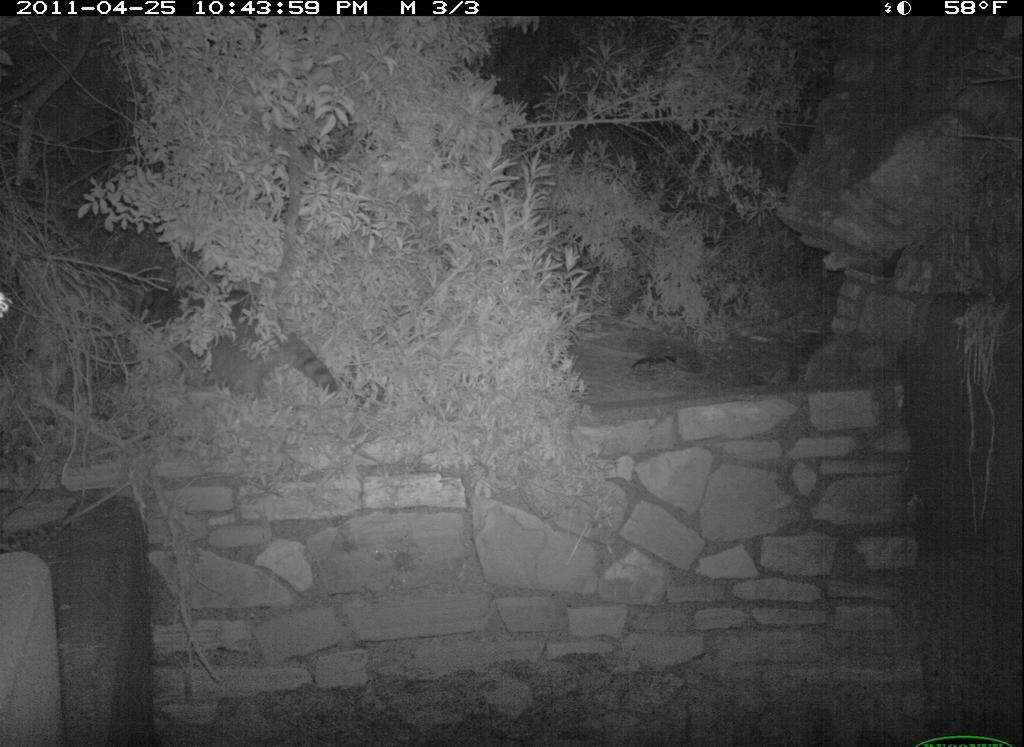raccoon: (130, 310, 345, 422)
